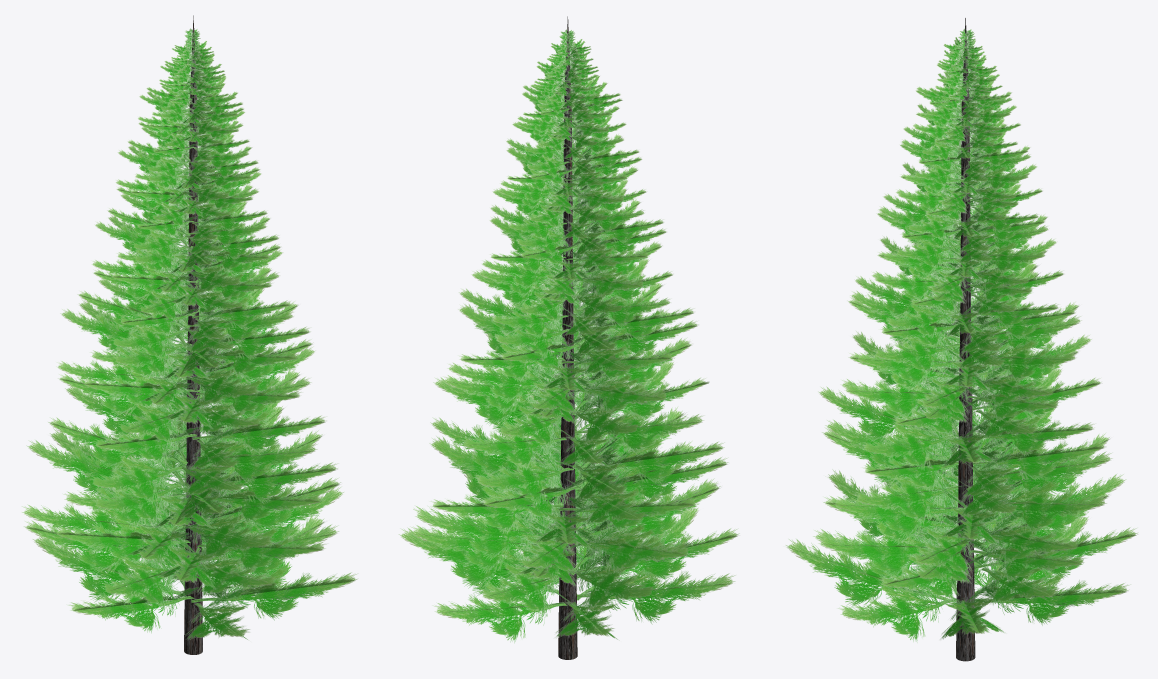
The model's file is PinetreeSimple.glb.
3 renders of one model, left to right at view 1: azimuth 30°, elevation 25°; view 2: azimuth 150°, elevation 25°; view 3: azimuth 270°, elevation 25°, orthographic.
Visible parts, largest first — view 1: Plane.001, Cylinder; view 2: Plane.001, Cylinder; view 3: Plane.001, Cylinder.
Part boxes in pixels (<box>): Plane.001: <box>21,28,358,640</box>; Cylinder: <box>184,15,202,654</box>; Plane.001: <box>398,29,739,643</box>; Cylinder: <box>558,16,577,659</box>; Plane.001: <box>785,28,1138,642</box>; Cylinder: <box>956,18,975,661</box>.
Size of the model in its own units: 35.75 by 73.07 by 37.92.
2 materials, 2 textured.
